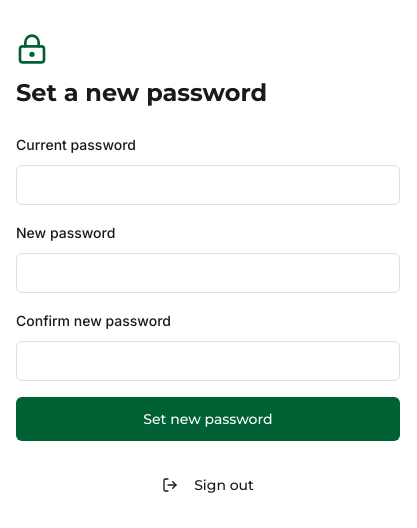
Scenario: Mandatory password-change screen › failed password updates keep the user on the change screen
Type "CurrentTestOnly1" into the password field labelled "Current password" at coordinates (208, 185), box [16, 165, 400, 205]
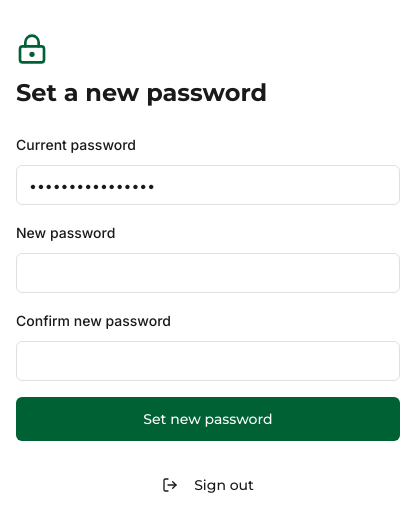
Type "ChangedTestOnly2" into the password field labelled "New password" at coordinates (208, 273), box [16, 253, 400, 293]
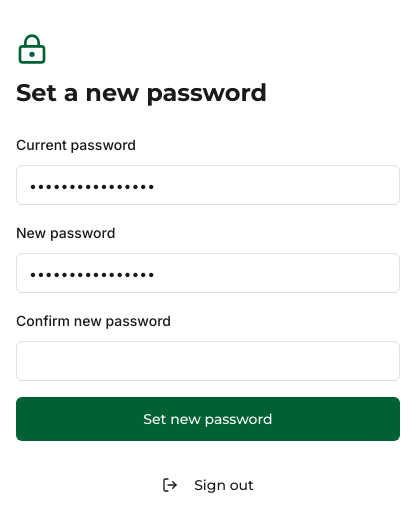
Type "ChangedTestOnly2" into the password field labelled "Confirm new password" at coordinates (208, 361), box [16, 341, 400, 381]
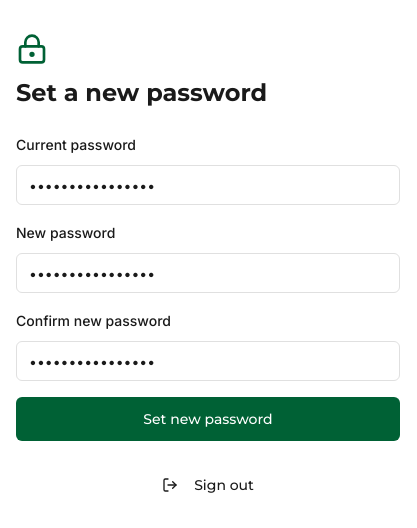
Click the button "Set new password" at coordinates (208, 419), box [16, 397, 400, 441]
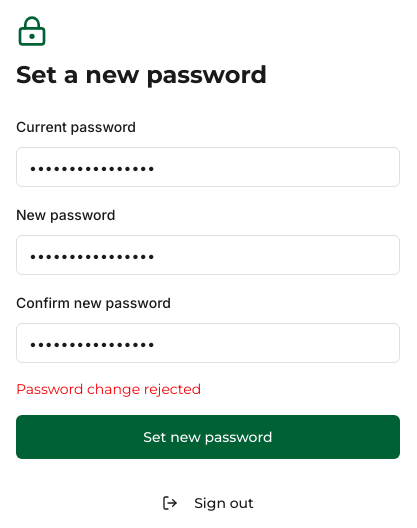
Expected: the message reads "Password change rejected", [16, 380, 201, 398]
